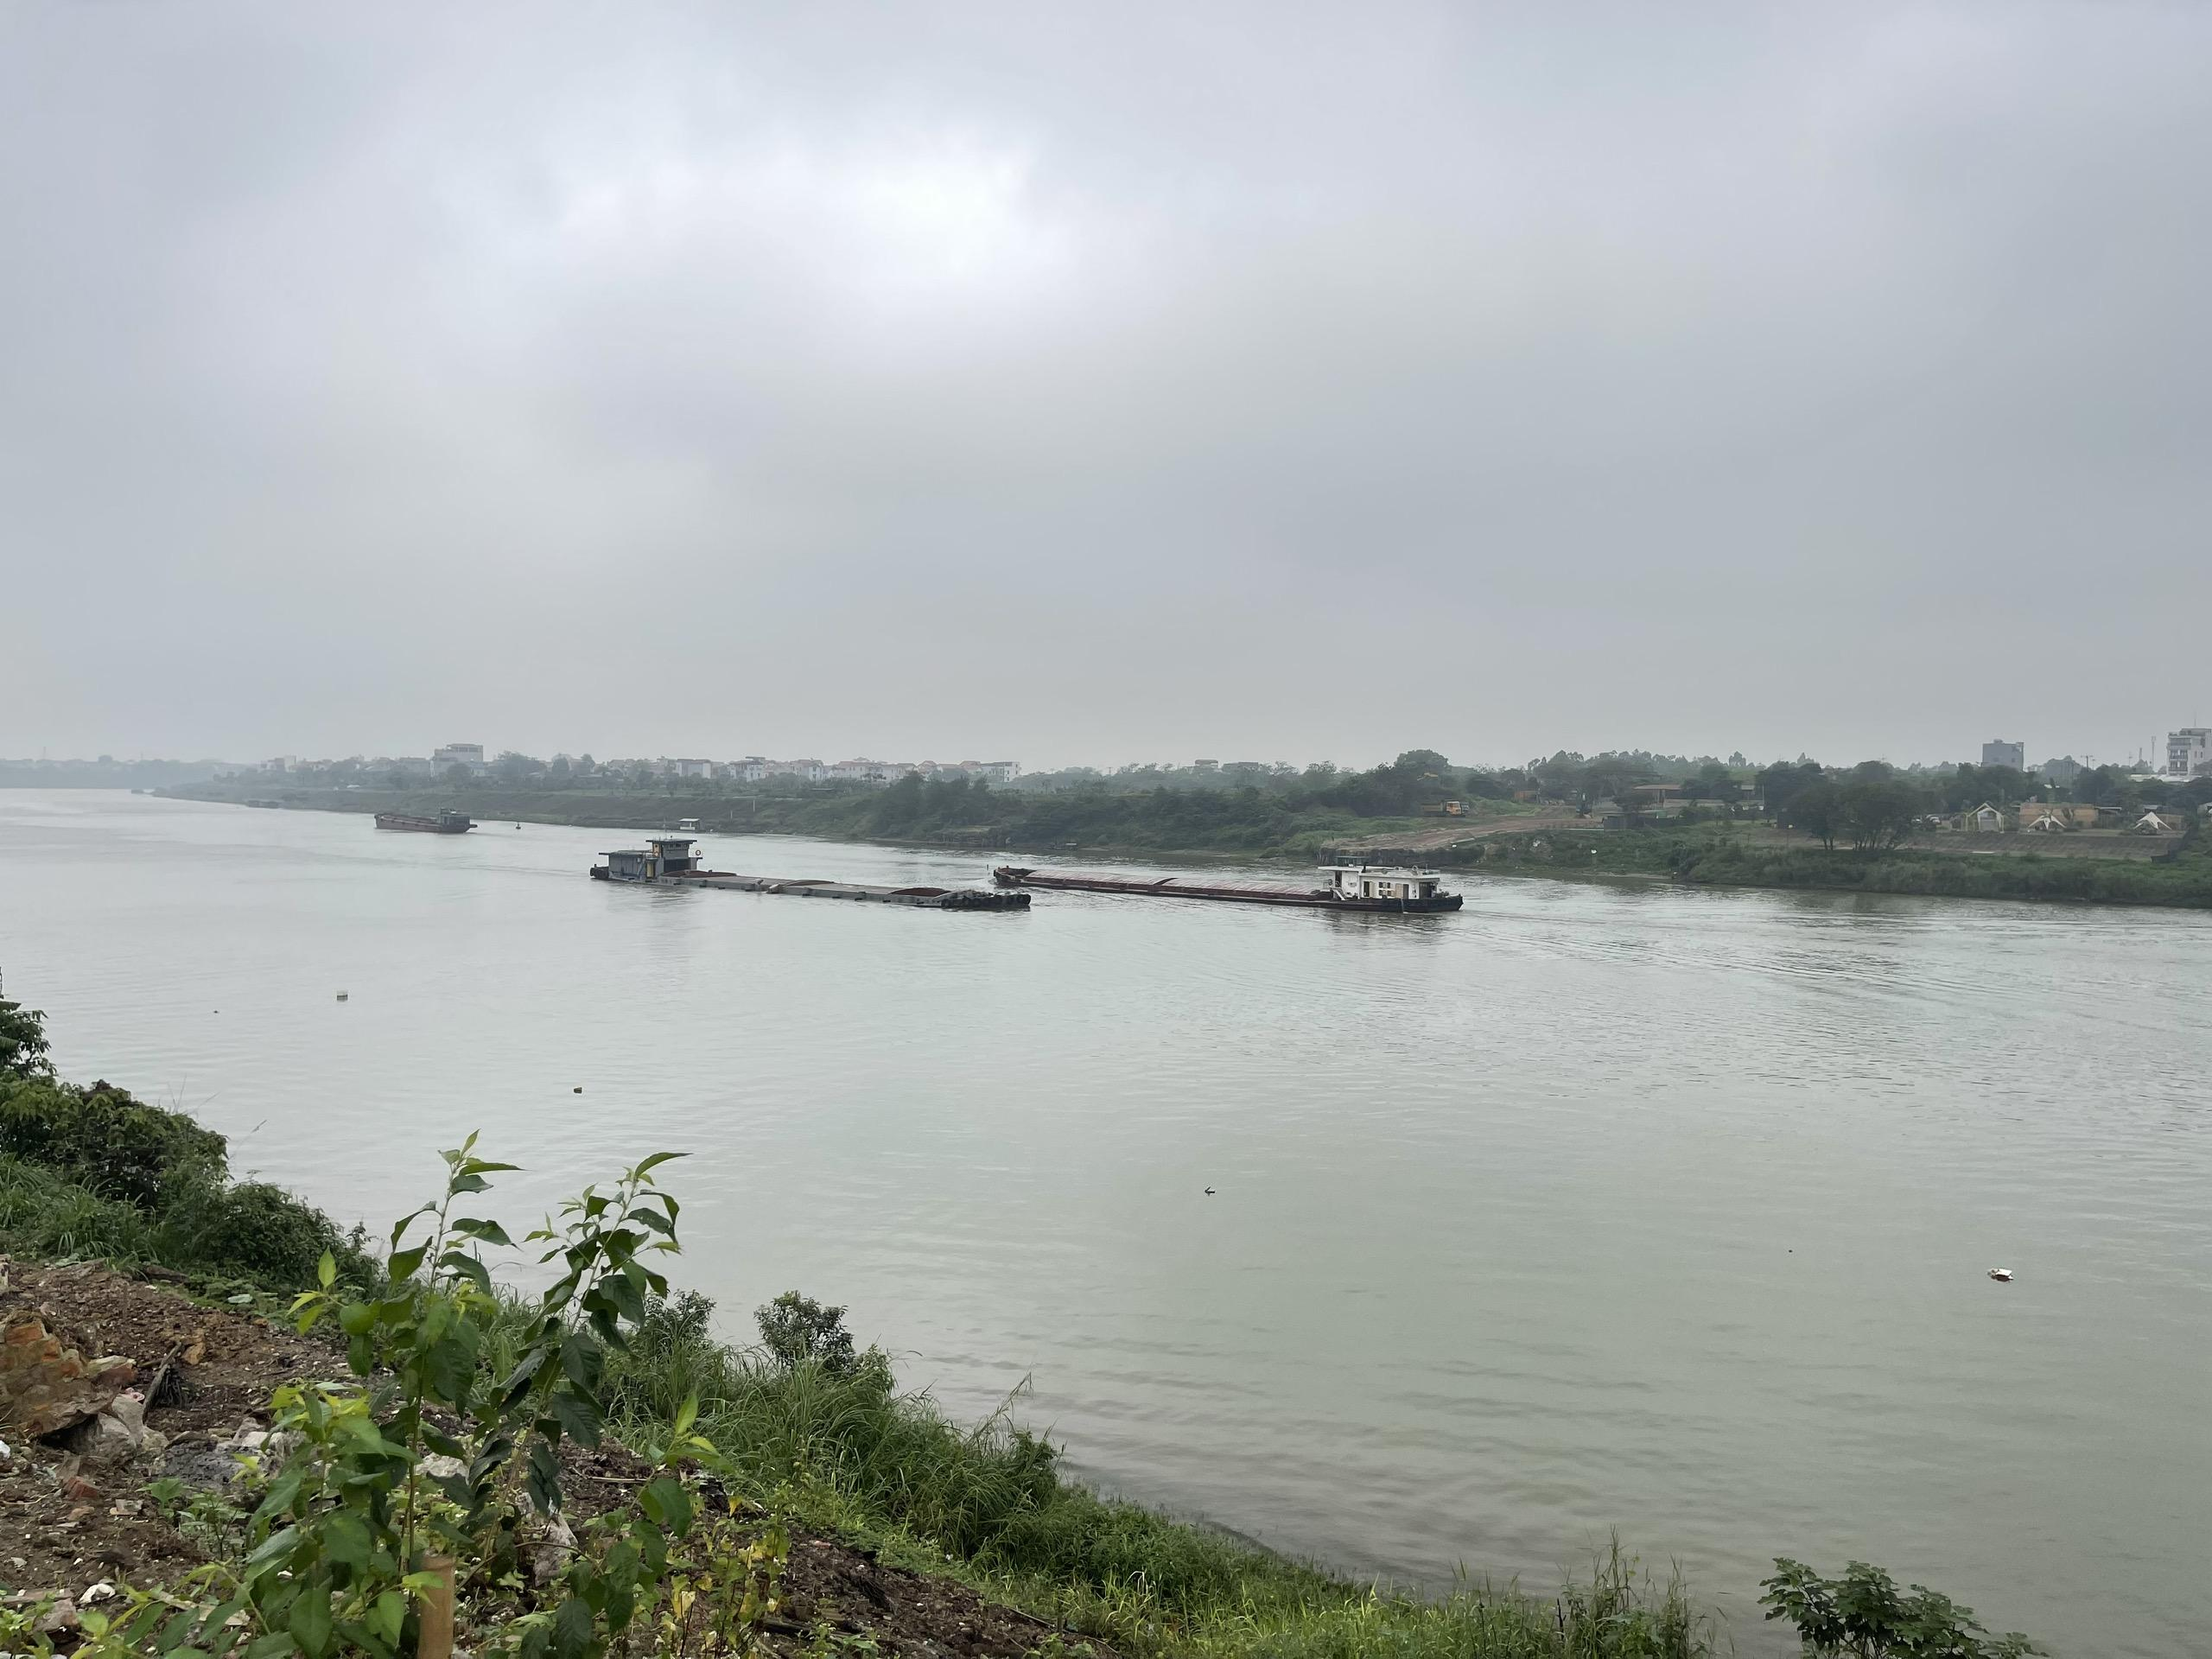Ship: (587, 817, 1031, 918), (991, 840, 1475, 922)
